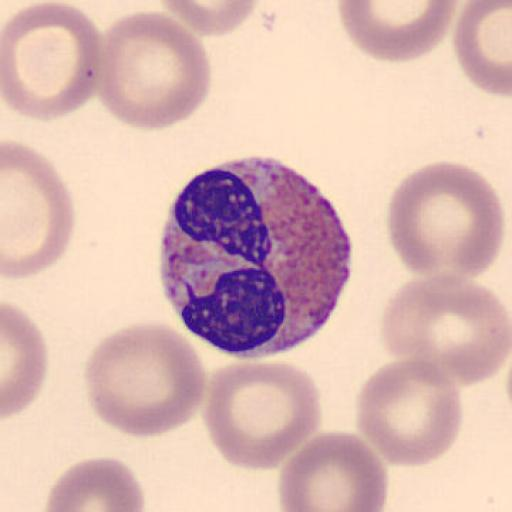RBC: (379, 270, 512, 387), (82, 320, 208, 439), (386, 159, 506, 281), (94, 9, 212, 132), (201, 359, 324, 473), (354, 356, 464, 468), (2, 1, 103, 122), (2, 141, 76, 281), (276, 430, 390, 512), (337, 0, 460, 63), (42, 455, 146, 512), (452, 1, 512, 99), (1, 300, 50, 420), (158, 0, 263, 38)
WBC: (159, 156, 354, 359)
